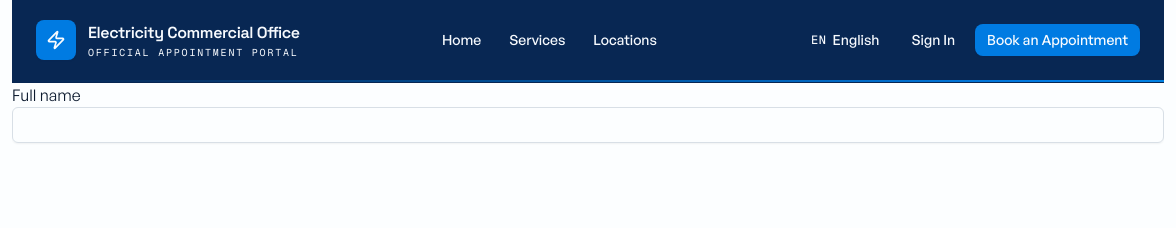
Header language switching › switches the whole UI to RTL and translates strings for Kurdish Sorani
The width and height of the screenshot is (1176, 228).
What coordinates should you click on to do the following:
click the button with test id "header.language_button"
I would click on:
 (845, 40)
Its box is top-left (799, 24), bottom-right (891, 56).
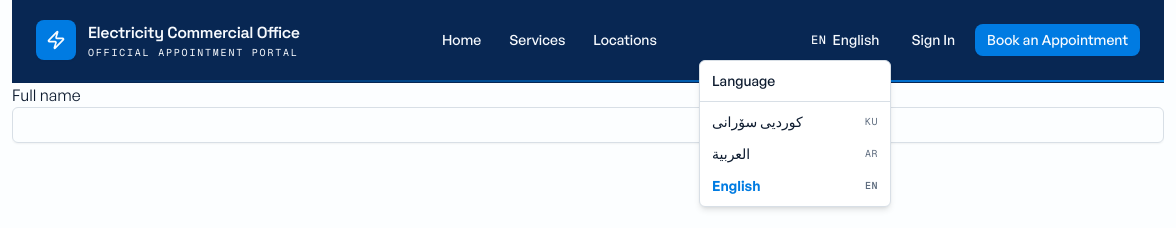
What coordinates should you click on to do the following:
click the menu item "کوردیی سۆرانی ku"
I would click on:
 (795, 122)
Its box is top-left (712, 113), bottom-right (878, 130).
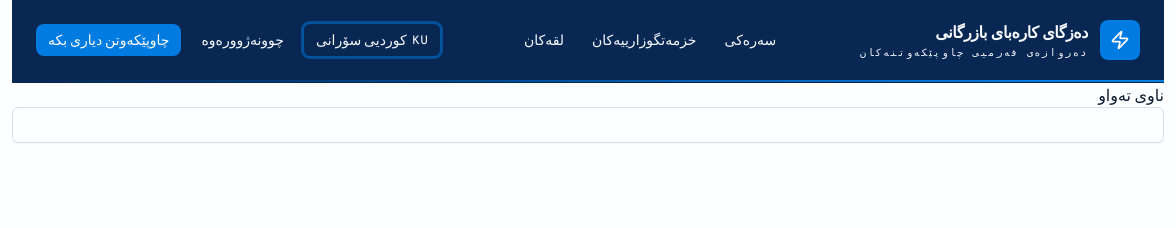
Now the link with test id "header.nav.home" no longer shows "Home", box top-left (724, 31), bottom-right (776, 48)
